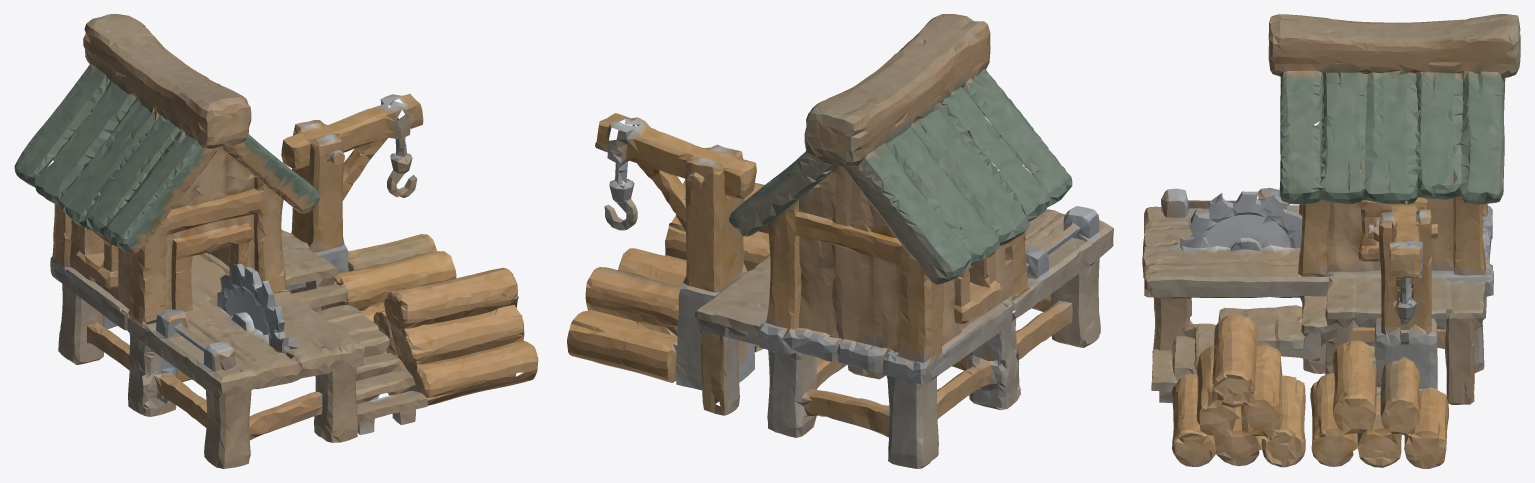
File: building_lumber_mill_lod0.glb
The picture shows the model from 3 angles, left to right: view 1: azimuth 30°, elevation 25°; view 2: azimuth 150°, elevation 25°; view 3: azimuth 270°, elevation 25°; orthographic projection. The views are drawn at different scales.
Visible parts, largest first — view 1: world; view 2: world; view 3: world.
Boxes of the visible parts, bbox=[...] form: world: bbox=[14, 14, 538, 468]; world: bbox=[567, 14, 1113, 468]; world: bbox=[1142, 14, 1520, 468].
Size of the model in its own units: 1.9 by 1.52 by 1.64.
